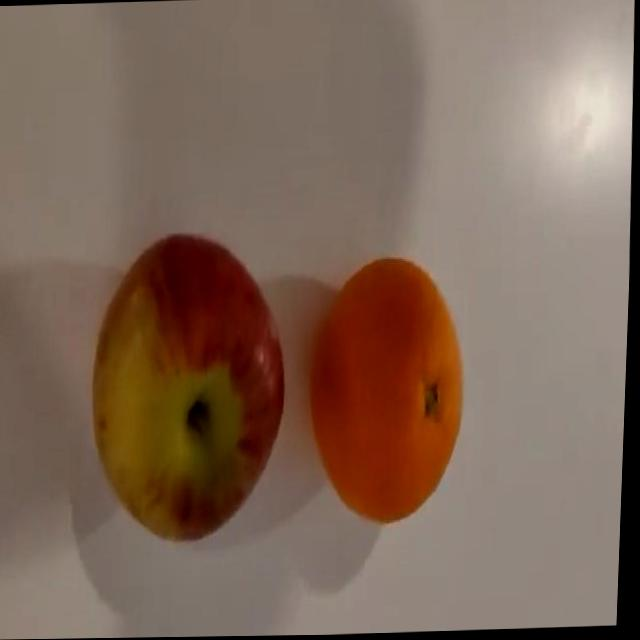Apple: (82, 224, 298, 548)
Orange: (301, 254, 475, 531)
